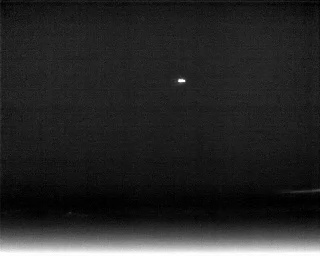AIRPLANE: (176, 76, 187, 86)
